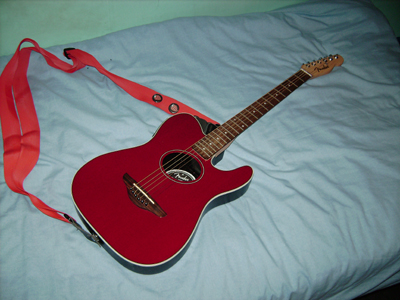guitar: (71, 53, 345, 274)
